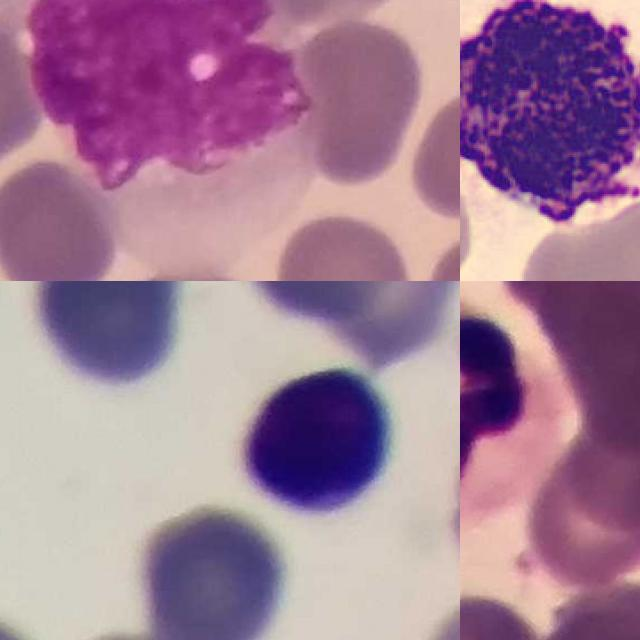Basophil: (460, 0, 640, 239)
Lymphocyte: (241, 365, 391, 515)
Monocyte: (12, 0, 311, 195)
Neutrophil: (460, 289, 558, 521)
RBC: (571, 188, 640, 281)
